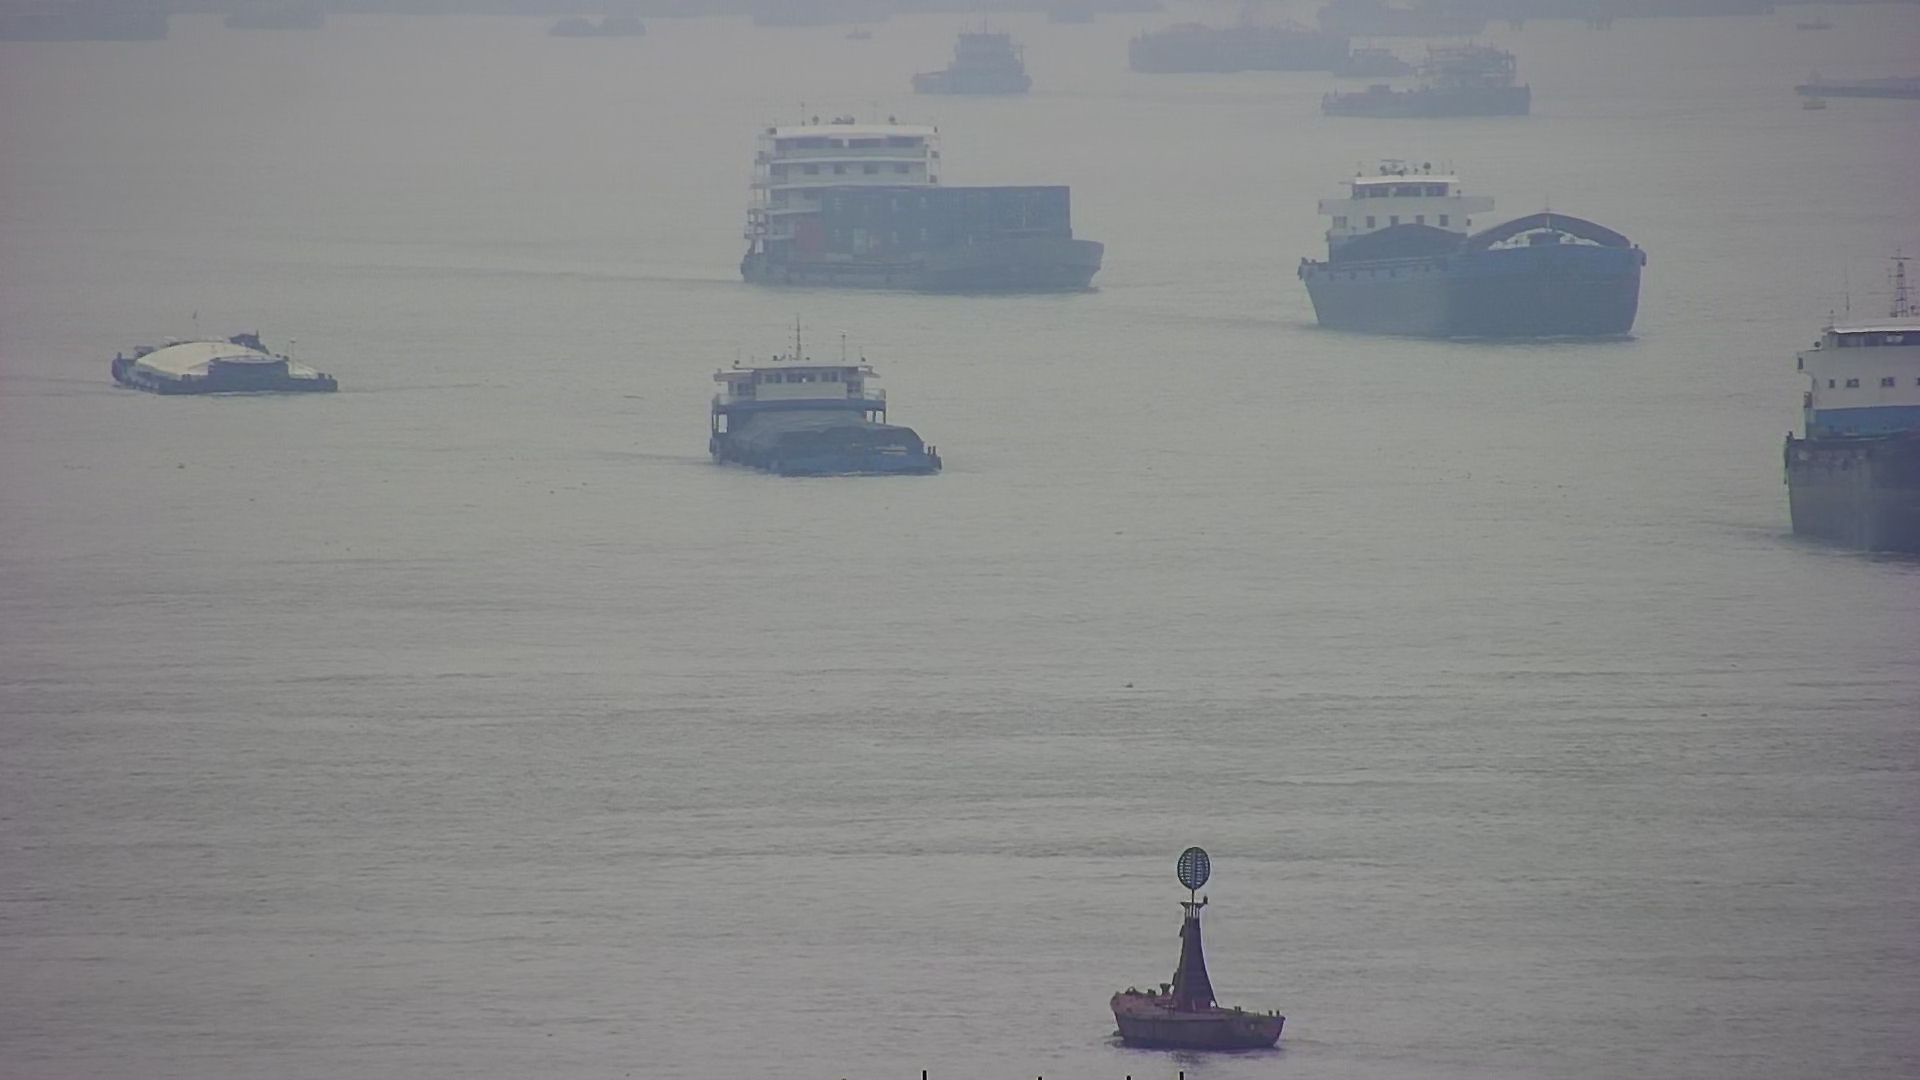boat: (1106, 837, 1287, 1056)
ship: (1298, 152, 1654, 344), (738, 115, 1108, 297), (1762, 251, 1920, 558), (707, 334, 940, 477), (103, 322, 339, 400)
